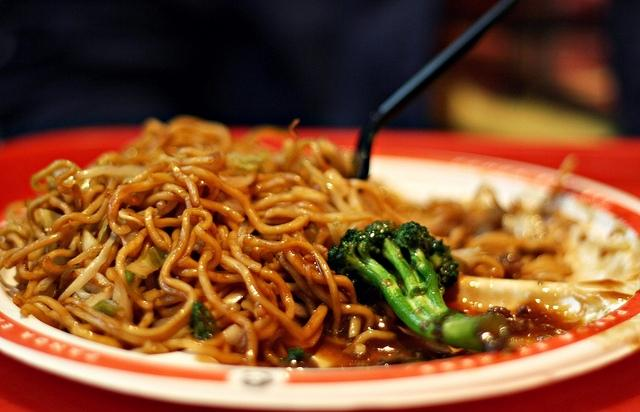broccoli: (327, 221, 511, 352)
